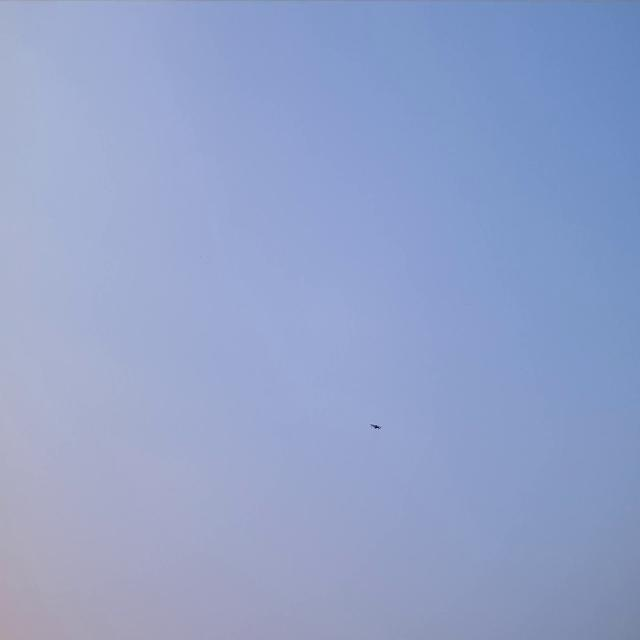UAV: (370, 422, 382, 432)
